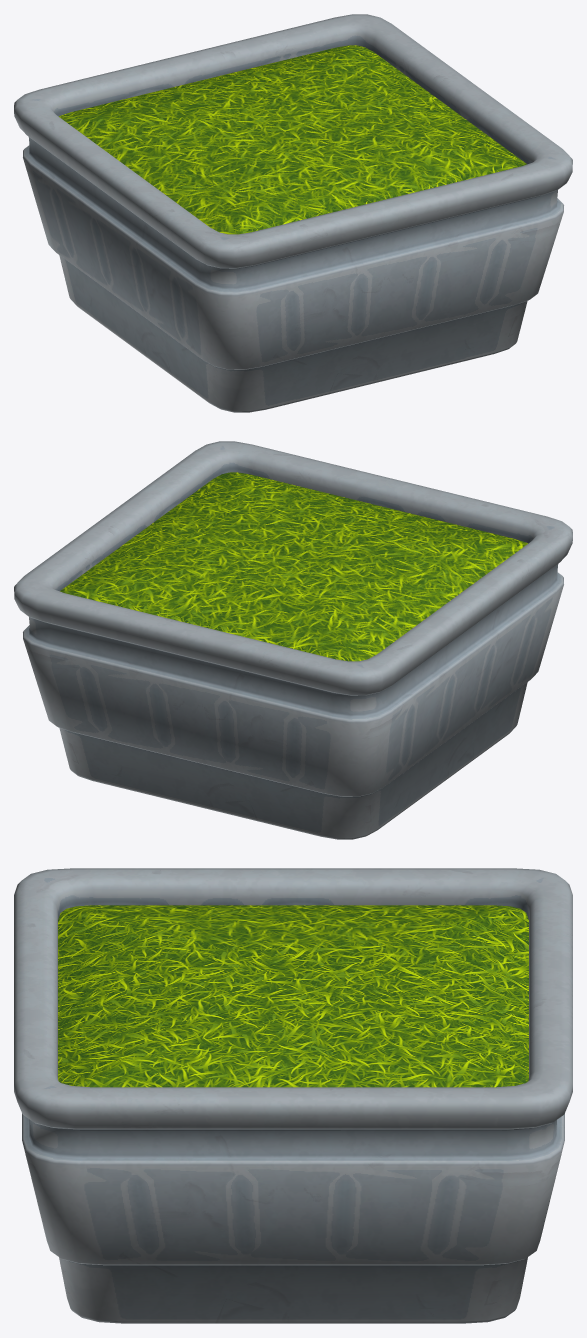
The model's file is StreetPlanter01_1.FBX.
3 views of the same model, one above another, from view 1: azimuth 30°, elevation 25°; view 2: azimuth 150°, elevation 25°; view 3: azimuth 270°, elevation 25° (orthographic). The views are drawn at different scales.
Visible parts, largest first — view 1: StreetPlanter01_1; view 2: StreetPlanter01_1; view 3: StreetPlanter01_1.
Part boxes in pixels (box(x1,y1,x2,y2)): StreetPlanter01_1: box(14, 14, 572, 412); StreetPlanter01_1: box(14, 441, 572, 839); StreetPlanter01_1: box(14, 868, 572, 1323).
Size of what is drawn, in the model's own units: 1.34 by 0.6495 by 1.34.
